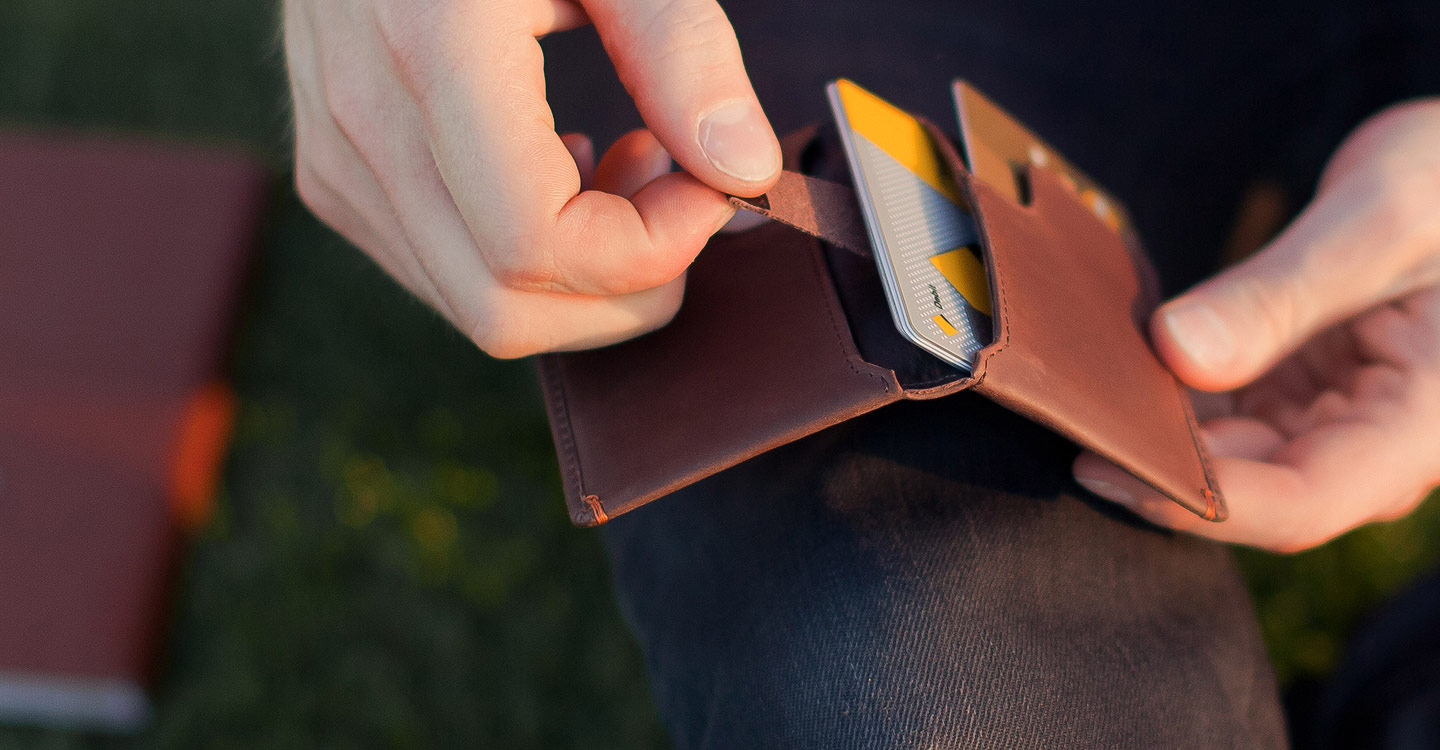monedero: (533, 74, 1238, 536)
